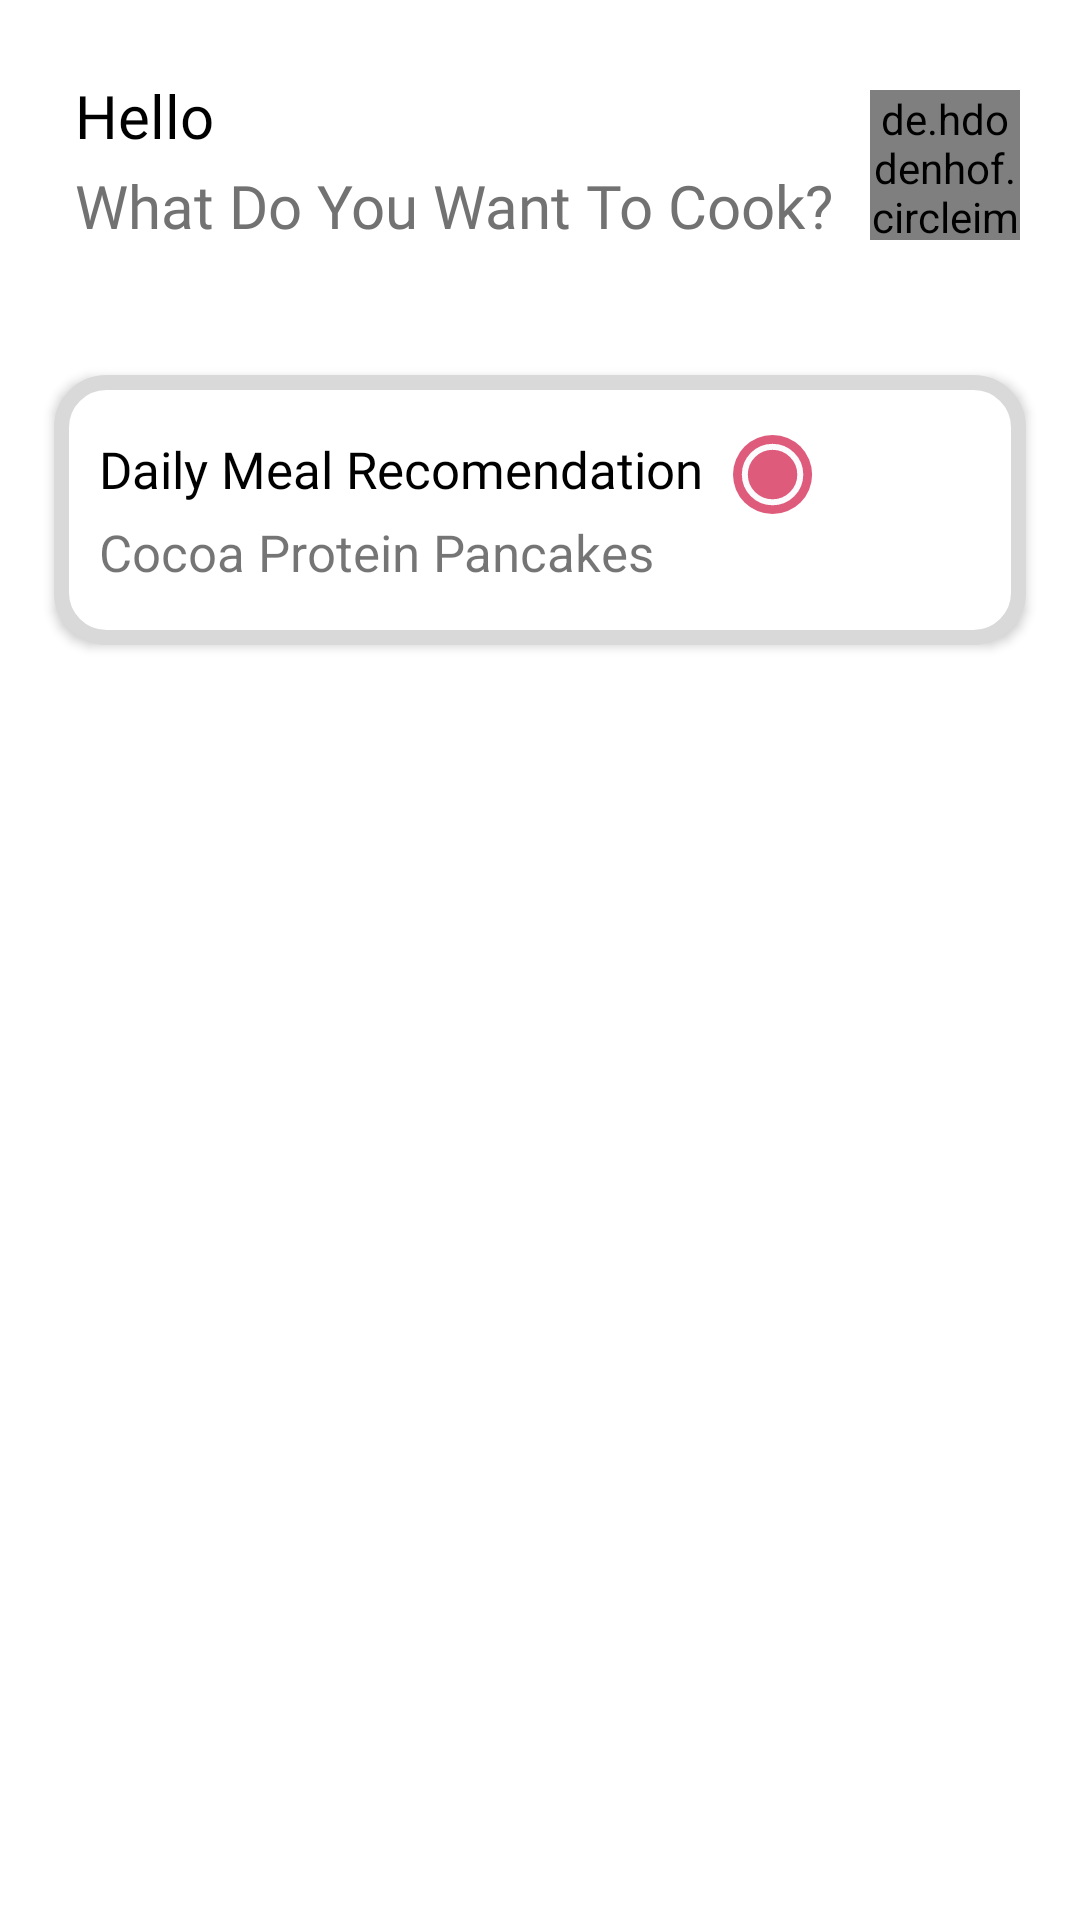

Icon bounding boxes for this 1080 × 1920 phone screenshot, format (x1, y1, x2, y2):
plate: (733, 435, 812, 514)
